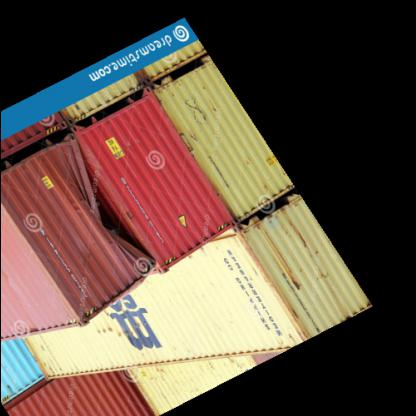Damage: (84, 162, 146, 262)
